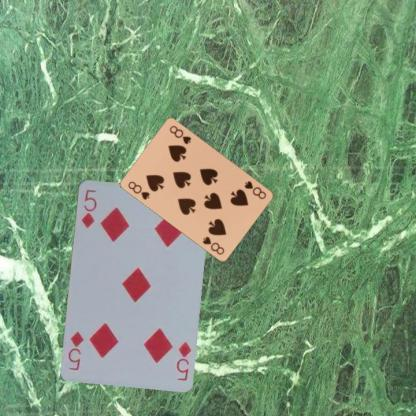5d: (78, 186, 98, 230), (174, 338, 192, 382)
8s: (242, 178, 268, 200), (126, 179, 152, 201)
